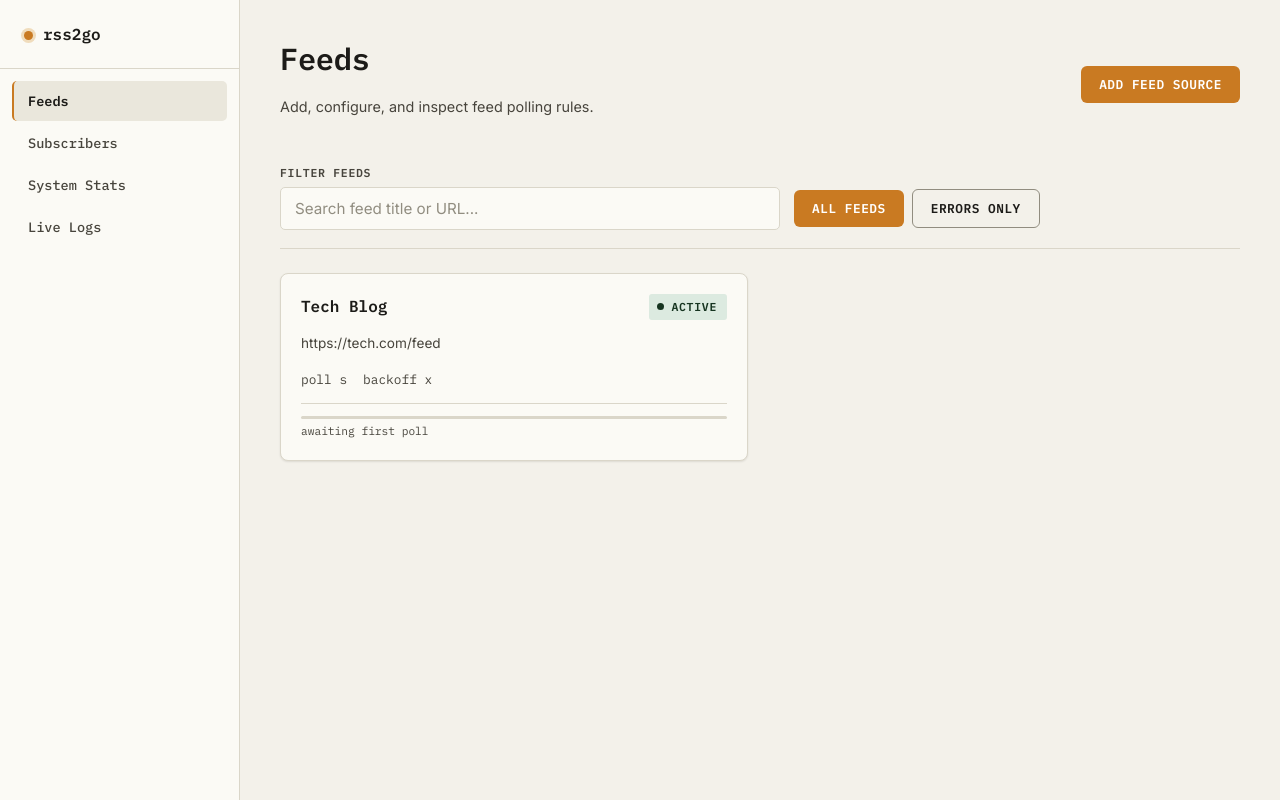
Test: App Component Layout Shell › can navigate between dashboard sidebar tabs
expect the heading "rss2go" is shown: met, box [43,22,101,46]
# Switch to Subscribers tab
Click the button "Subscribers" at (120, 143), box [12,123,227,163]
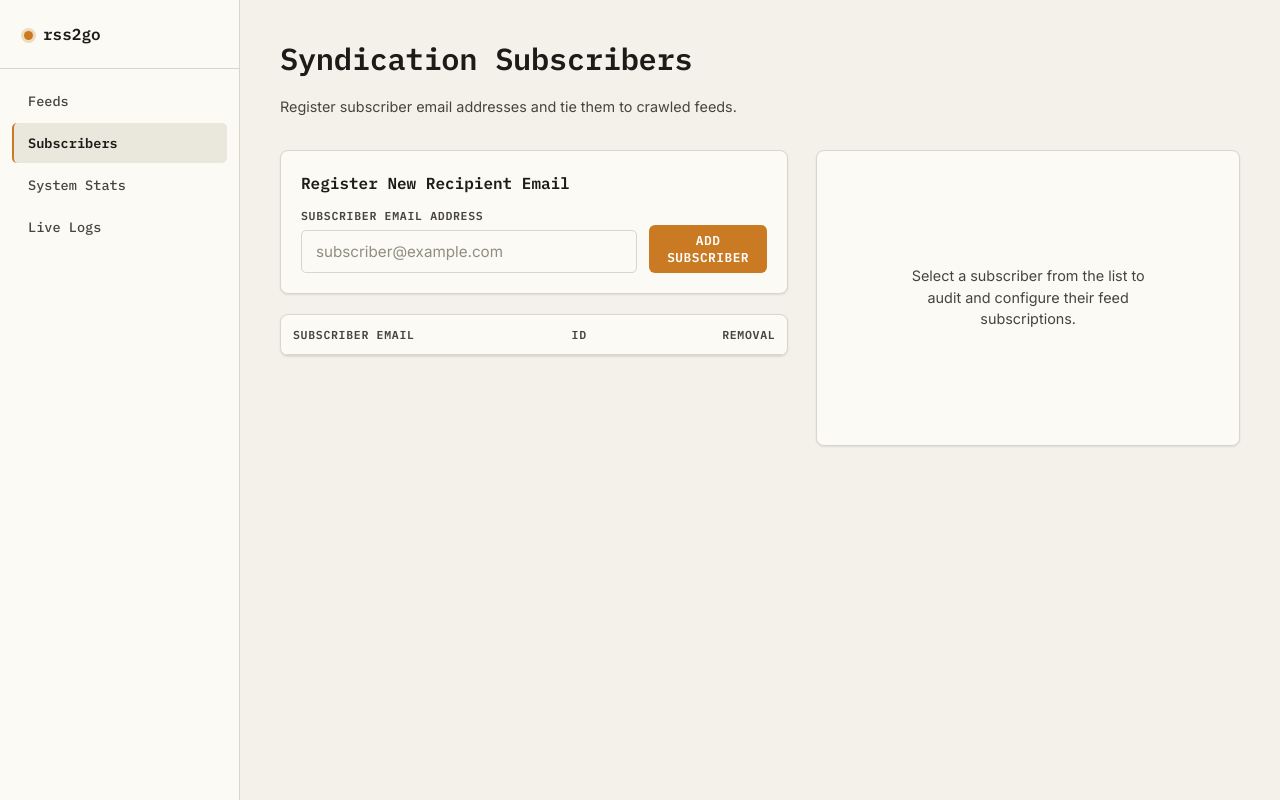
expect the heading "Syndication Subscribers" is shown: met, box [280,39,692,78]
# Switch to System Stats tab
Click the button "System Stats" at (120, 185), box [12,165,227,205]
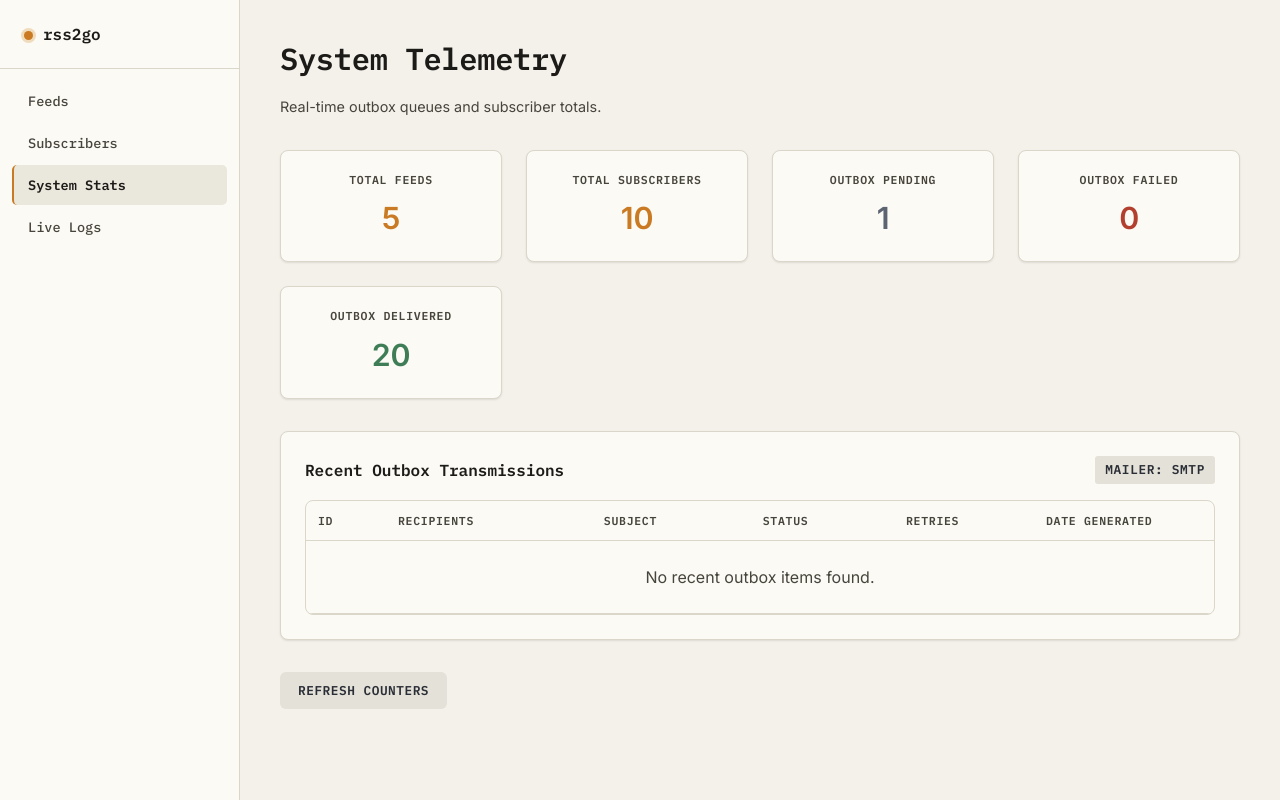
expect the heading "System Telemetry" is shown: met, box [280,39,567,78]
# Switch to Live Logs tab
Click the button "Live Logs" at (120, 227), box [12,207,227,247]
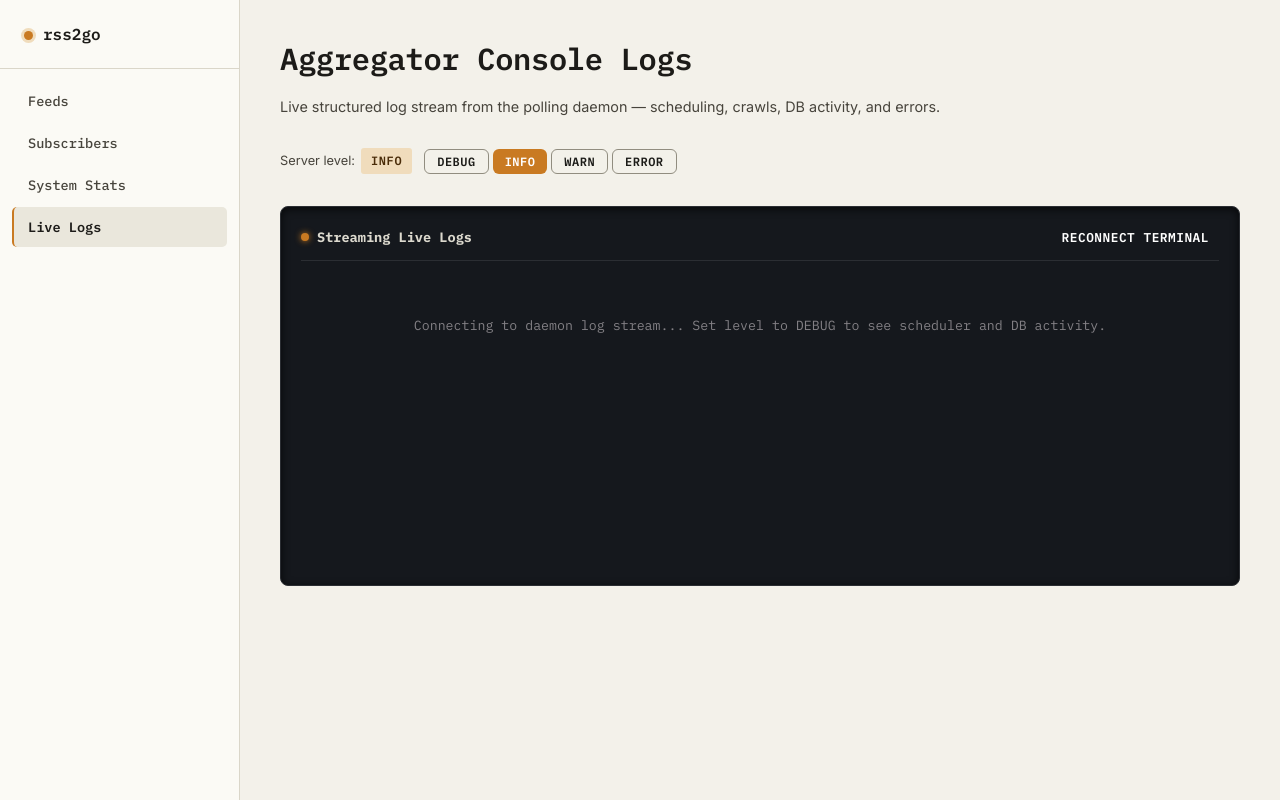
expect the heading "Aggregator Console Logs" is shown: met, box [280,39,692,78]
